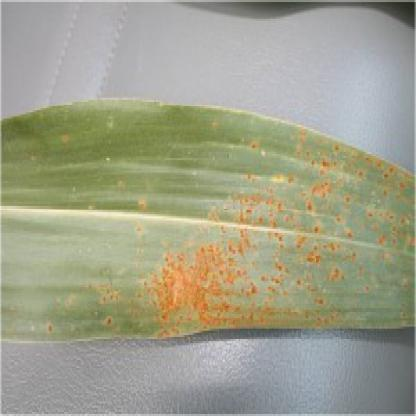Corn rust leaf: (1, 77, 414, 362)
